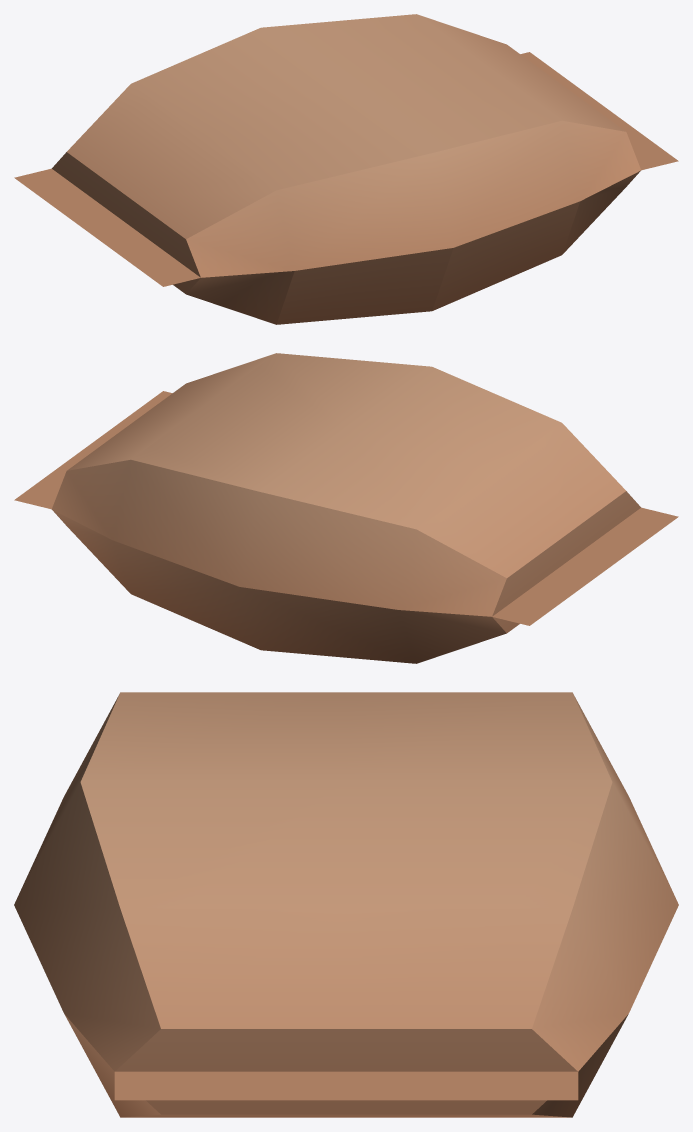
The model's file is bag-flat.glb.
The picture shows the model from 3 angles, top to bottom: view 1: azimuth 30°, elevation 25°; view 2: azimuth 150°, elevation 25°; view 3: azimuth 270°, elevation 25°; orthographic projection. The views are drawn at different scales.
Parts seen in each view (by area): view 1: bag-flat; view 2: bag-flat; view 3: bag-flat.
Boxes of the visible parts, x1=… form: bag-flat: x1=14, y1=14, x2=678, y2=324; bag-flat: x1=14, y1=353, x2=678, y2=663; bag-flat: x1=14, y1=692, x2=678, y2=1117.
Bounding box in the file's own units: 0.65 × 0.1905 × 0.4675.
